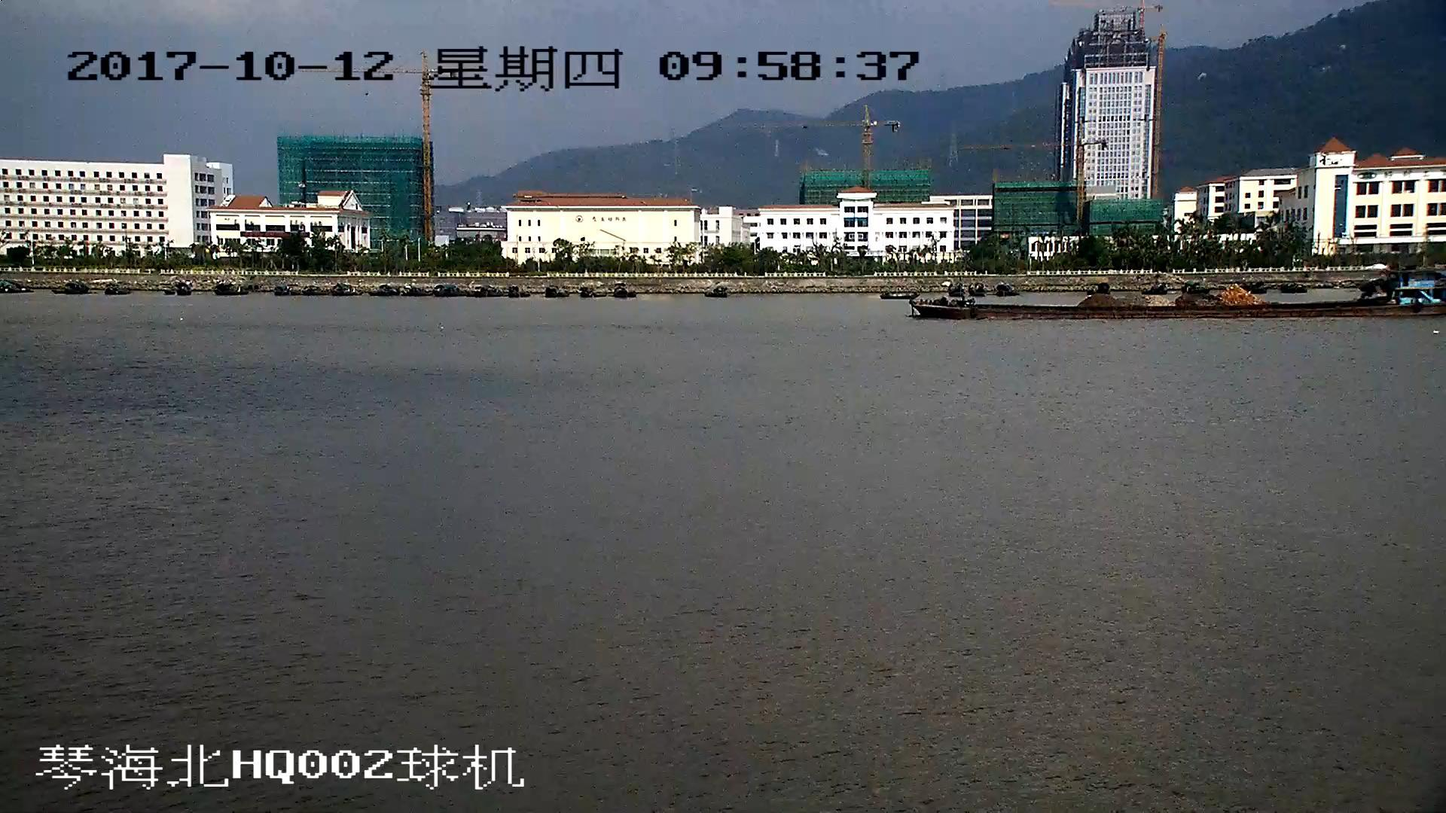ore carrier: (911, 273, 1445, 318)
